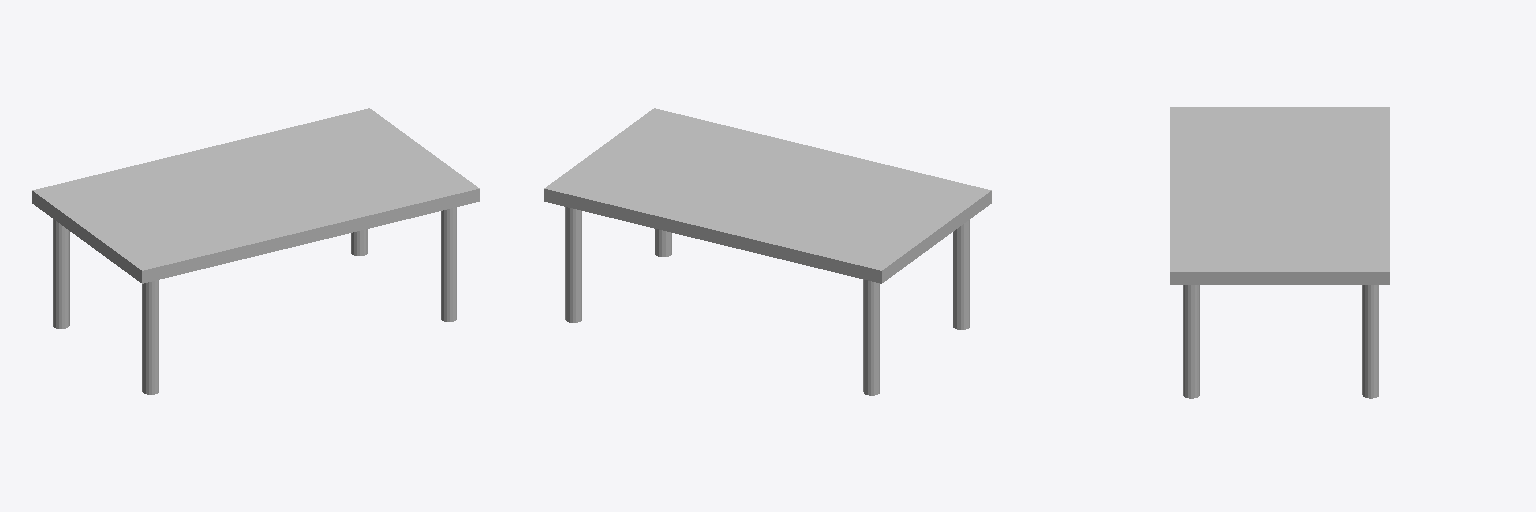
File: Desk.obj
3 renders of one model, left to right at view 1: azimuth 30°, elevation 25°; view 2: azimuth 150°, elevation 25°; view 3: azimuth 270°, elevation 25°, orthographic.
Parts seen in each view (by area): view 1: Plane.135_Plane.062; view 2: Plane.135_Plane.062; view 3: Plane.135_Plane.062.
Boxes of the visible parts, <box> form: Plane.135_Plane.062: <box>32,108,479,394</box>; Plane.135_Plane.062: <box>544,108,991,395</box>; Plane.135_Plane.062: <box>1170,107,1389,398</box>.
Size of the model in its own units: 2.66 by 1 by 1.5.